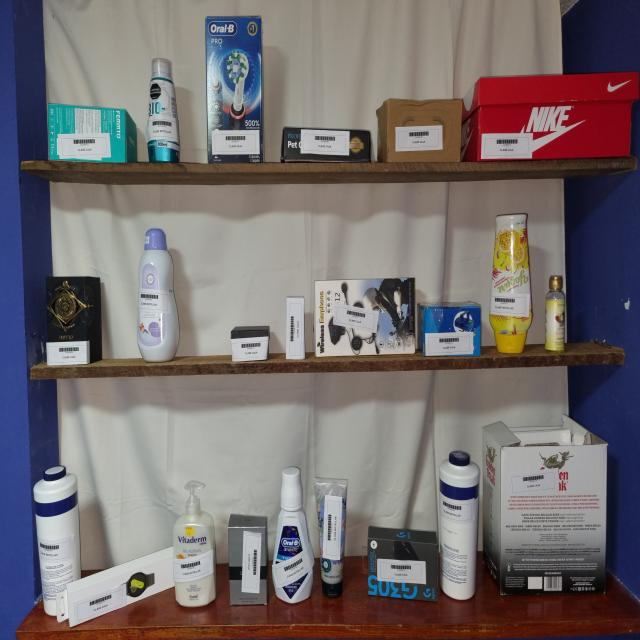botella: (33, 465, 81, 621), (489, 213, 533, 353), (438, 451, 479, 600), (272, 467, 316, 604), (137, 228, 179, 362), (173, 481, 216, 607), (314, 477, 348, 598), (145, 58, 180, 163), (544, 276, 566, 354)
caja: (483, 416, 607, 595), (461, 73, 638, 161), (56, 547, 174, 627), (206, 16, 263, 163), (315, 278, 416, 356), (48, 103, 137, 164), (376, 99, 462, 162), (367, 526, 439, 601), (44, 276, 102, 365), (228, 512, 269, 606), (420, 302, 481, 356), (281, 127, 371, 162), (231, 326, 270, 362), (286, 295, 306, 360)
